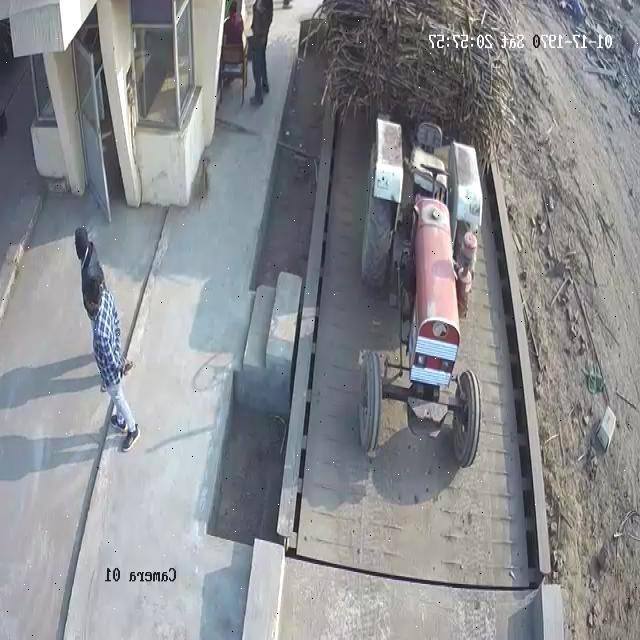Tratores - v5 YOLO V8L 2024-11-13: (346, 124, 484, 459)
